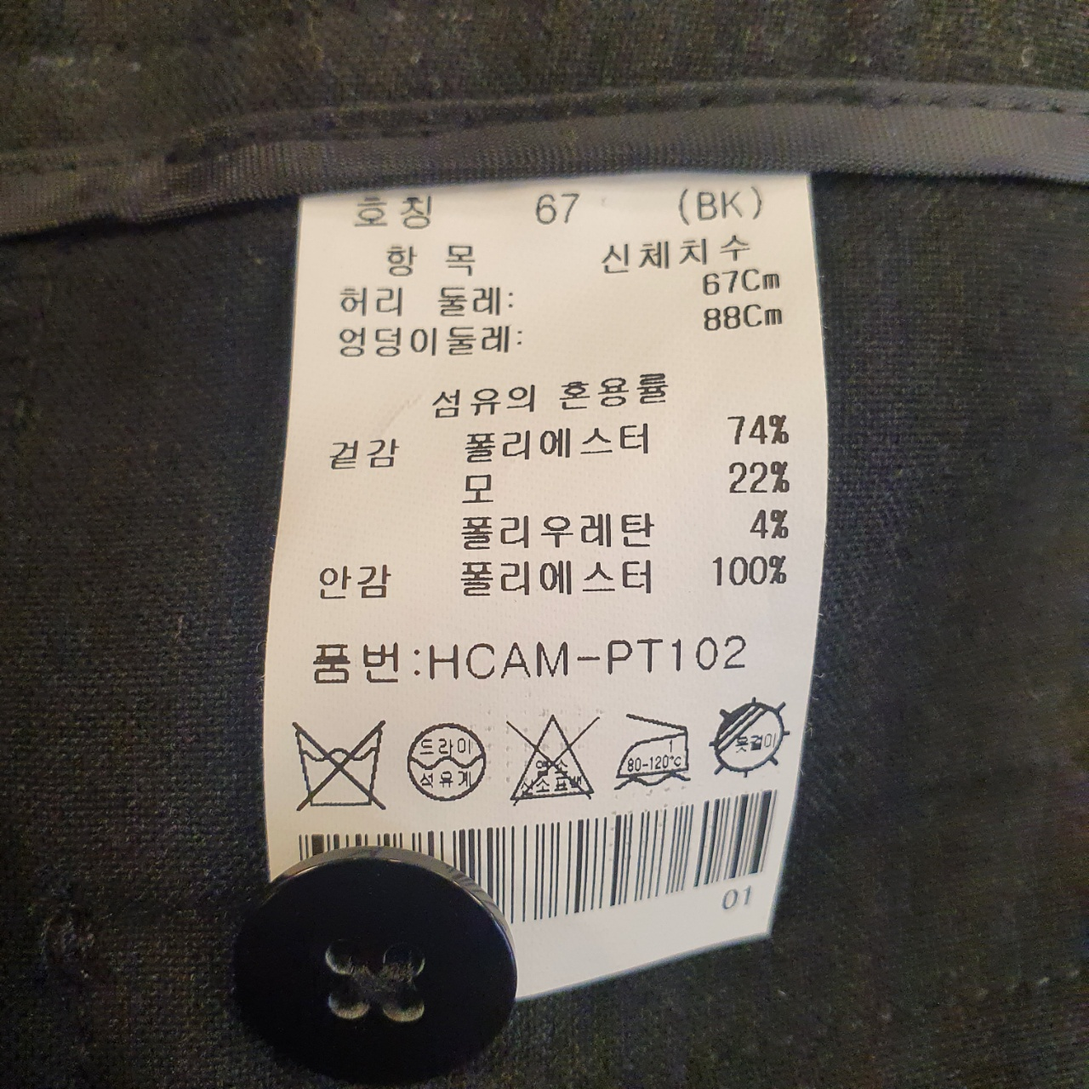KR_dry_clean_petroleum: (405, 721, 489, 804)
KR_hang_dry_in_shade: (708, 696, 792, 777)
KR_iron_low_temp_with_cloth: (609, 709, 698, 793)
KR_no_bleach: (500, 714, 594, 808)
KR_no_wash: (285, 714, 396, 816)
